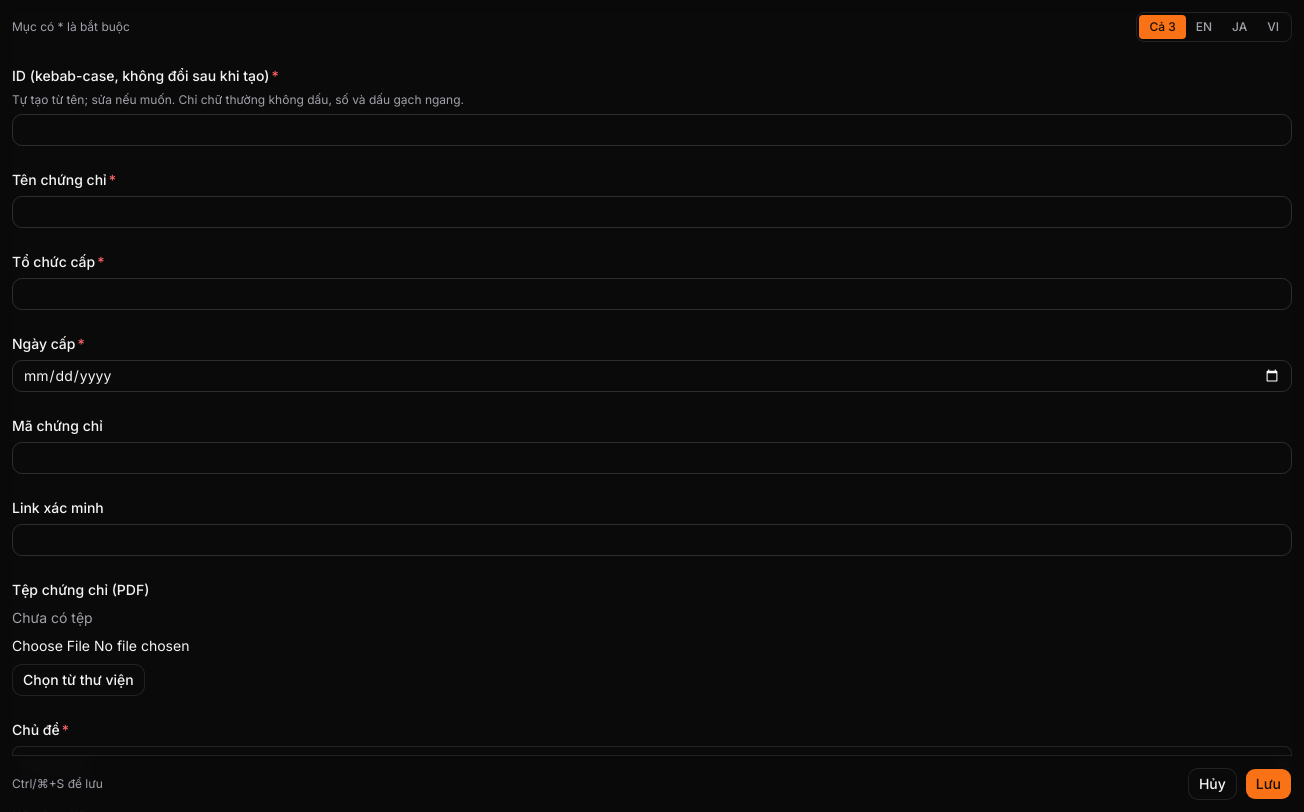
Scenario: automatic IDs › warns at once when the ID is taken
Step 1. Type "ielts" into the field with id "field-id" → (652, 130), box [12,114,1292,146]
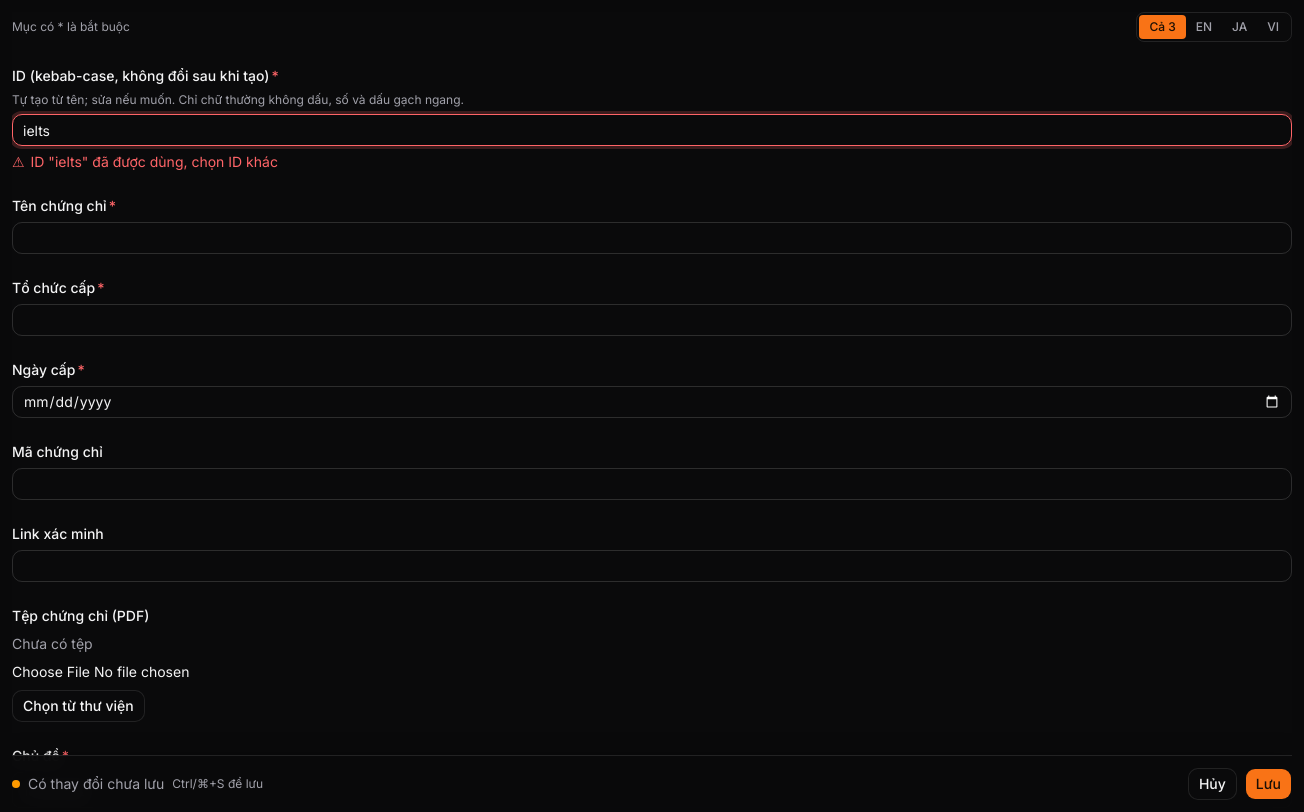
Check: the text "ID \"ielts\" đã được dùng, chọn ID khác" is shown, box [31,152,278,172]
